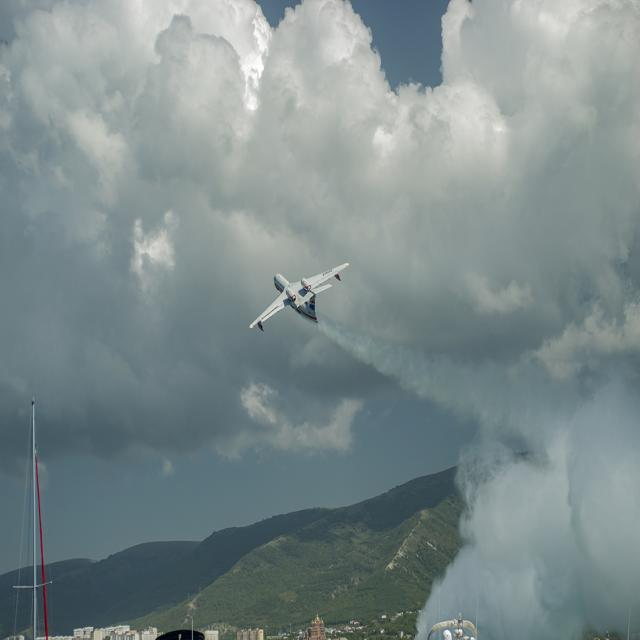MIL_Plane: (262, 262, 336, 332)
